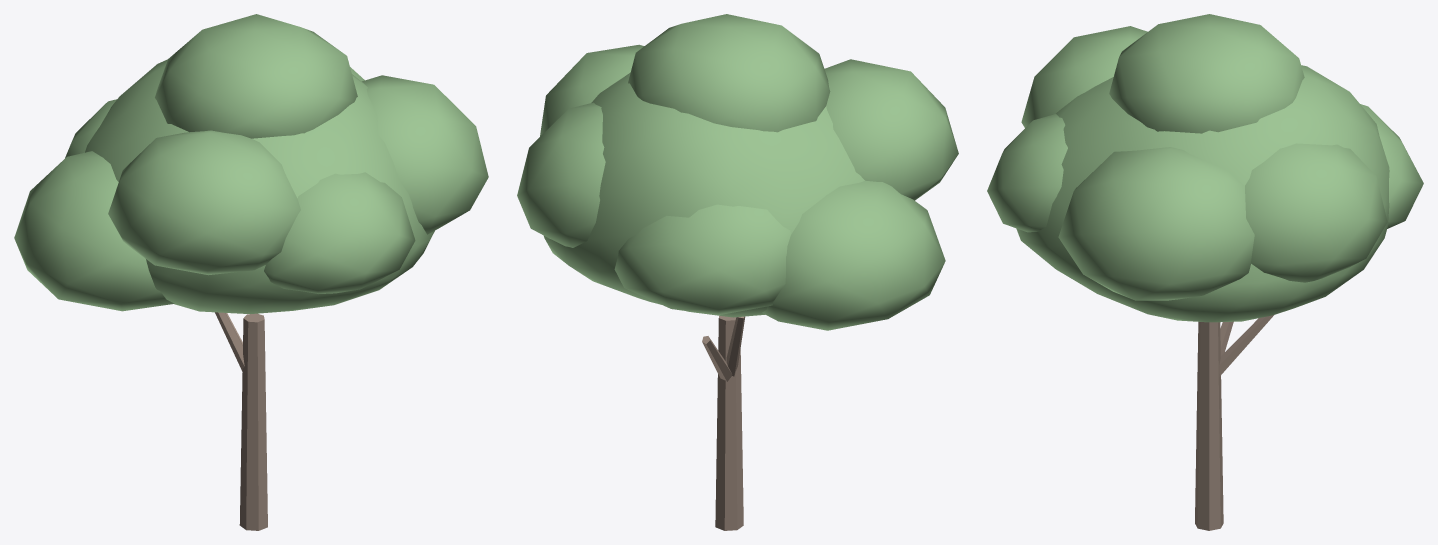
The model's file is tree-broadleaf-a.glb.
3 renders of one model, left to right at view 1: azimuth 30°, elevation 25°; view 2: azimuth 150°, elevation 25°; view 3: azimuth 270°, elevation 25°, orthographic.
Parts seen in each view (by area): view 1: tree-broadleaf-a; view 2: tree-broadleaf-a; view 3: tree-broadleaf-a.
Boxes of the visible parts, x1,y1,x2,y2 form: tree-broadleaf-a: (14,14,488,530); tree-broadleaf-a: (517,14,958,530); tree-broadleaf-a: (987,14,1423,530).
Size of the model in its own units: 0.8761 by 1 by 0.796.
